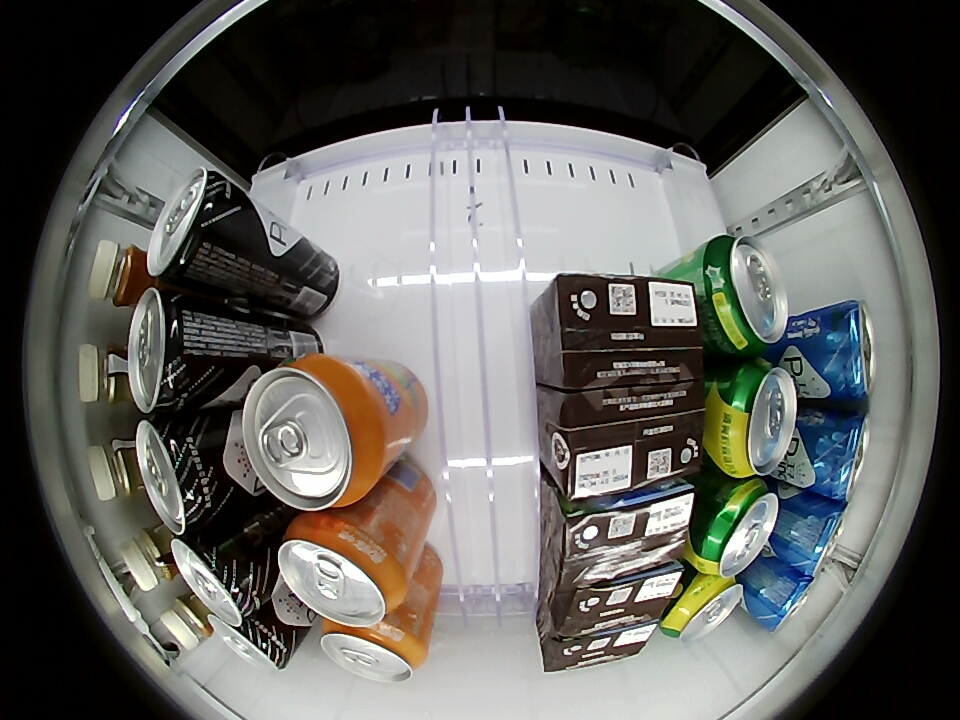fenda: (241, 355, 391, 511), (277, 514, 407, 628), (319, 619, 427, 683)
kafei: (89, 240, 160, 309), (120, 520, 182, 592), (87, 437, 150, 501), (79, 342, 140, 408), (159, 592, 216, 652)
qingdaowangzi-1: (137, 413, 230, 535), (146, 167, 241, 284), (127, 288, 215, 413), (172, 531, 263, 627), (209, 610, 291, 672)
qingdaowangzi-2: (809, 300, 877, 401), (806, 410, 871, 502), (782, 496, 850, 578), (747, 567, 818, 631)
weitanai2: (549, 380, 705, 500), (545, 274, 703, 387), (551, 481, 694, 584), (553, 563, 686, 635), (540, 620, 659, 673)
xuebi2: (695, 236, 788, 355), (707, 360, 799, 477), (689, 478, 780, 576), (660, 573, 743, 643)
